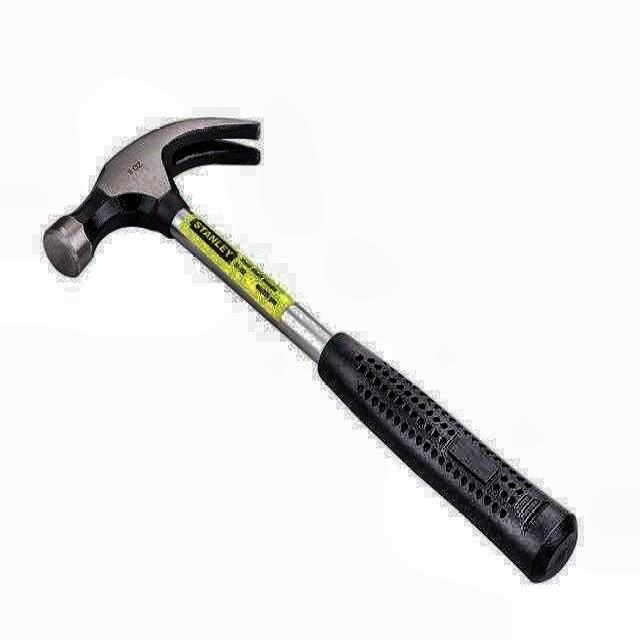hammer: (43, 115, 579, 583)
